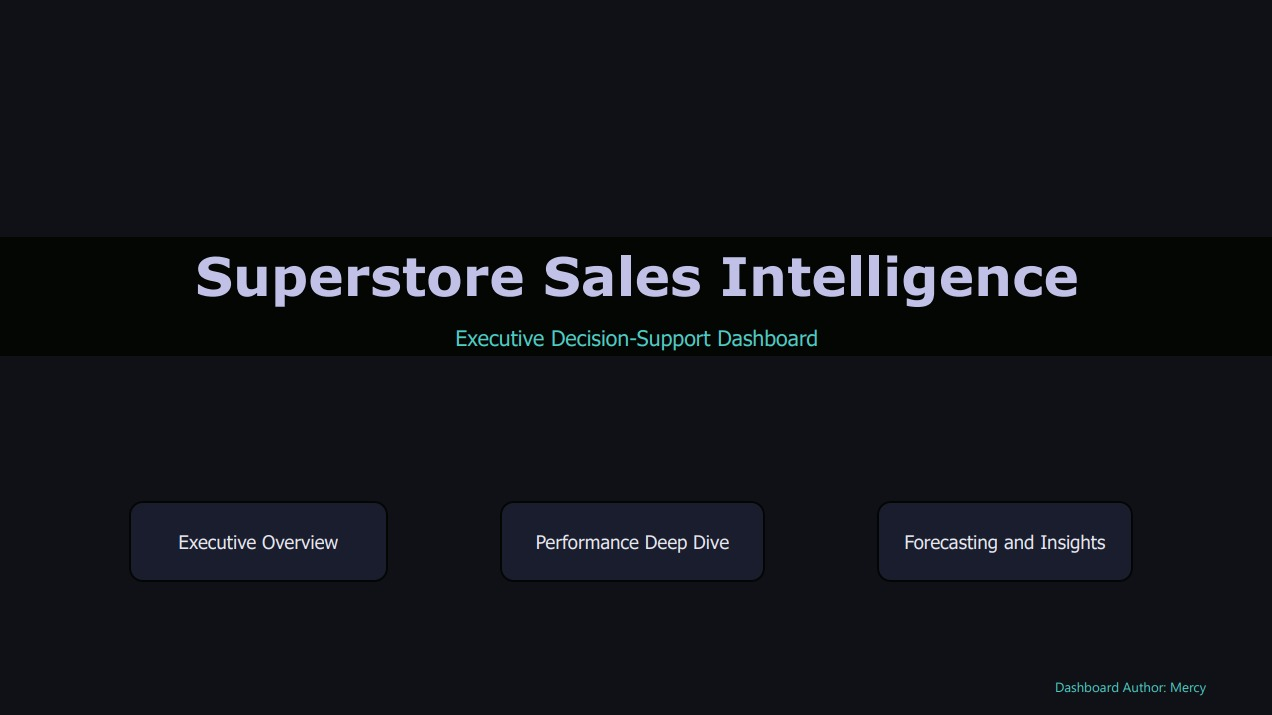

The page's visual inventory and layout, read from the dashboard file:
{"tool":"powerbi","page":{"name":"Home","canvas":[1280,720],"ordinal":0},"visuals":[{"type":"textbox","box":[0,240.2,1280.4,82.7],"z":0},{"type":"textbox","box":[0,322.9,1280.4,36.6],"z":1000},{"type":"actionButton","box":[502.6,504.2,265.6,81.1],"z":2000},{"type":"actionButton","box":[132,504.2,259.3,81.1],"z":3000},{"type":"actionButton","box":[879.6,504.2,256.1,81.1],"z":4000},{"type":"textbox","box":[1053,676,227.5,31.8],"z":5000}]}

Visuals, with their boxes in screenshot pixels (x1, y1, x2, y2), scaled from the page's 1280x720 canvas onto the 1272x715 screenshot:
textbox: locate(0, 239, 1271, 321)
textbox: locate(0, 321, 1271, 357)
actionButton: locate(499, 501, 763, 581)
actionButton: locate(131, 501, 389, 581)
actionButton: locate(874, 501, 1129, 581)
textbox: locate(1046, 671, 1271, 703)
